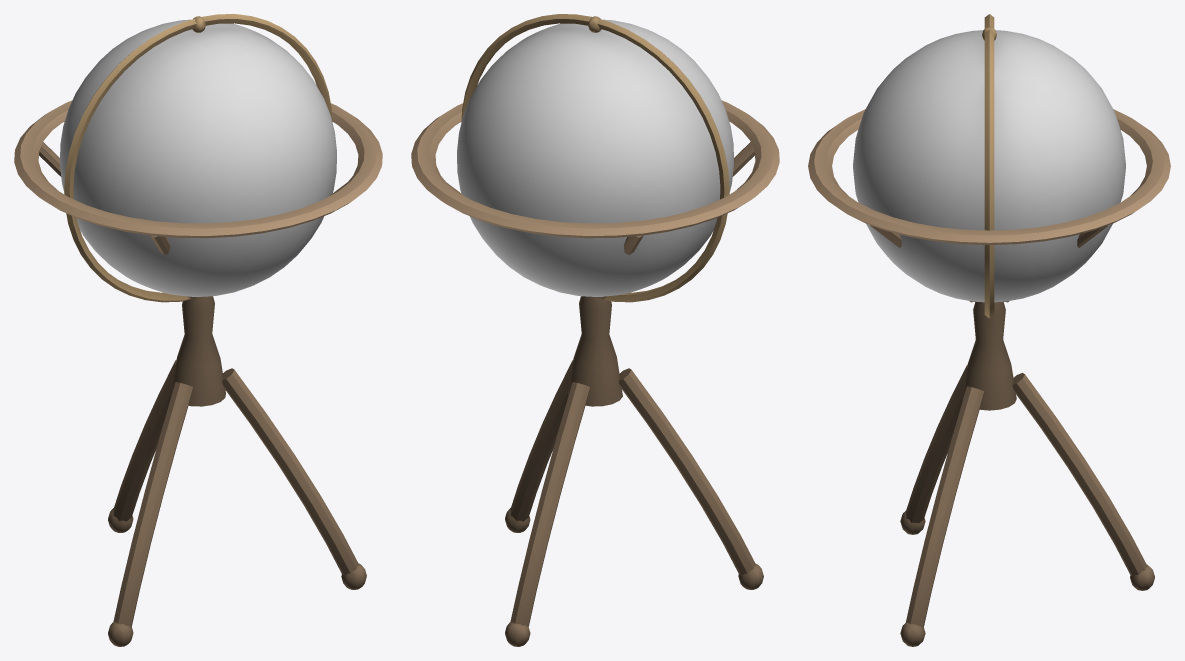
The model's file is obj_kit_globe.glb.
3 renders of one model, left to right at view 1: azimuth 30°, elevation 25°; view 2: azimuth 150°, elevation 25°; view 3: azimuth 270°, elevation 25°, orthographic.
Parts seen in each view (by area): view 1: Sphere.003, Torus, Torus.001, leg.001, leg.002, post, leg; view 2: Sphere.003, Torus, Torus.001, leg, leg.001, post, leg.002; view 3: Sphere.003, Torus, leg.002, leg, post, Torus.001, leg.001.
Part boxes in pixels (x1,y1,x2,y2): Sphere.003: (60, 19, 336, 296); Torus: (14, 100, 382, 238); Torus.001: (64, 14, 332, 302); leg.001: (113, 382, 193, 626); leg.002: (222, 368, 358, 575); post: (171, 296, 225, 406); leg: (113, 360, 176, 521); Sphere.003: (457, 19, 733, 296); Torus: (411, 100, 779, 238); Torus.001: (461, 14, 729, 302); leg: (510, 382, 590, 626); leg.001: (619, 368, 755, 575); post: (568, 296, 622, 406); leg.002: (510, 360, 572, 521); Sphere.003: (853, 30, 1125, 302); Torus: (808, 109, 1170, 244); leg.002: (905, 386, 984, 627); leg: (1012, 373, 1147, 576); post: (962, 301, 1016, 410); Torus.001: (984, 14, 994, 318); leg.001: (905, 365, 967, 523).
Bounding box in the file's own units: 0.664 × 1.14 × 0.664.
